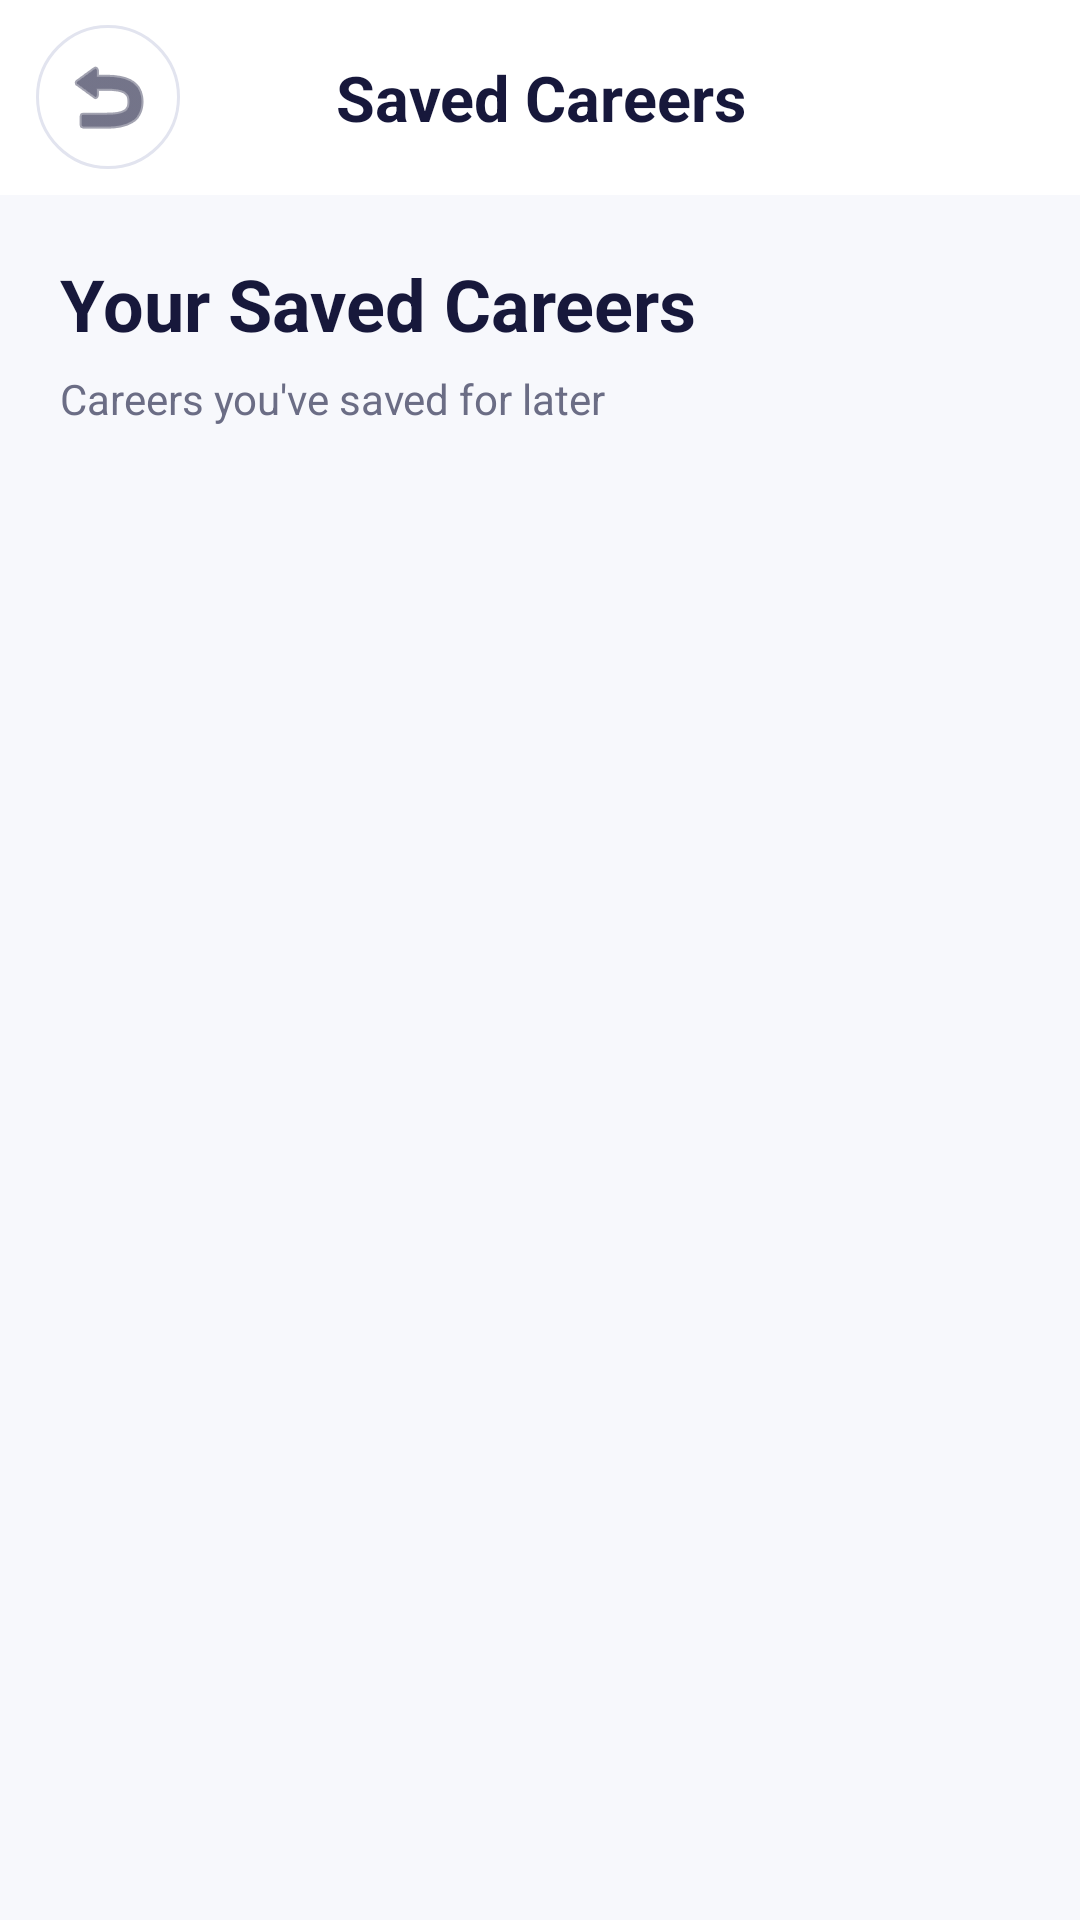

Screen size 1080x1920. Icon name, then its center in pixels as (x,y):
Back: (108,97)
